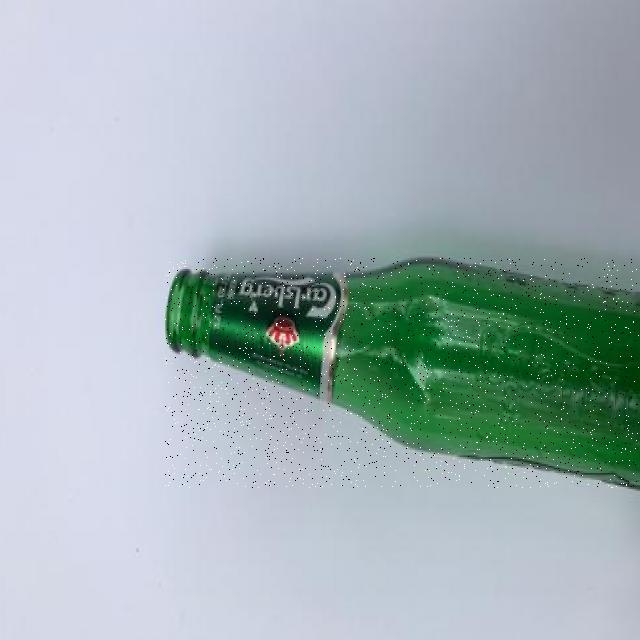glass: (165, 259, 640, 488)
